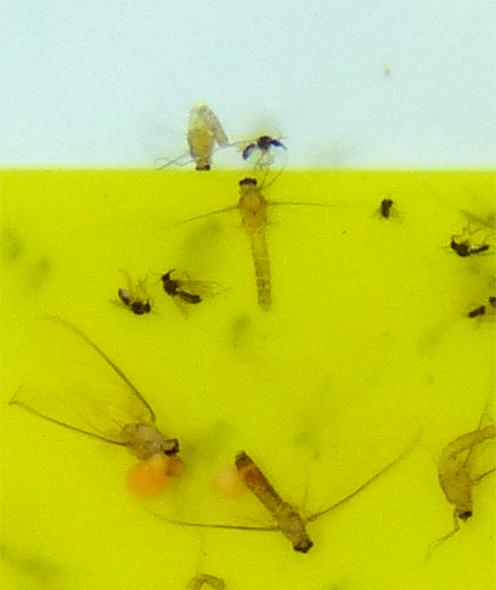Brachycera: (157, 267, 205, 307), (240, 132, 283, 161), (115, 287, 154, 318), (447, 236, 490, 258), (376, 195, 396, 221), (465, 303, 487, 319)
Ephemeroptera: (100, 384, 196, 490), (227, 447, 317, 556), (229, 171, 282, 320), (434, 421, 496, 525), (184, 100, 230, 177)
